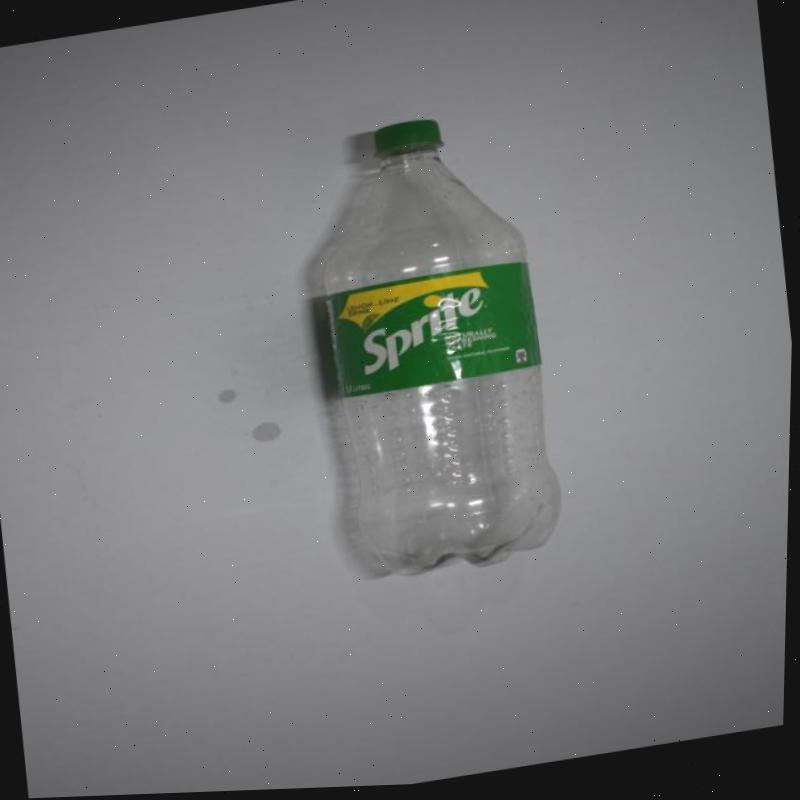botella: (285, 106, 578, 595)
